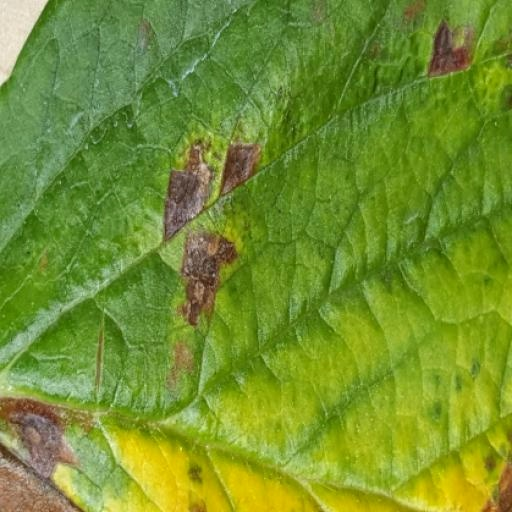Angular Leafspot: (465, 0, 511, 92)
